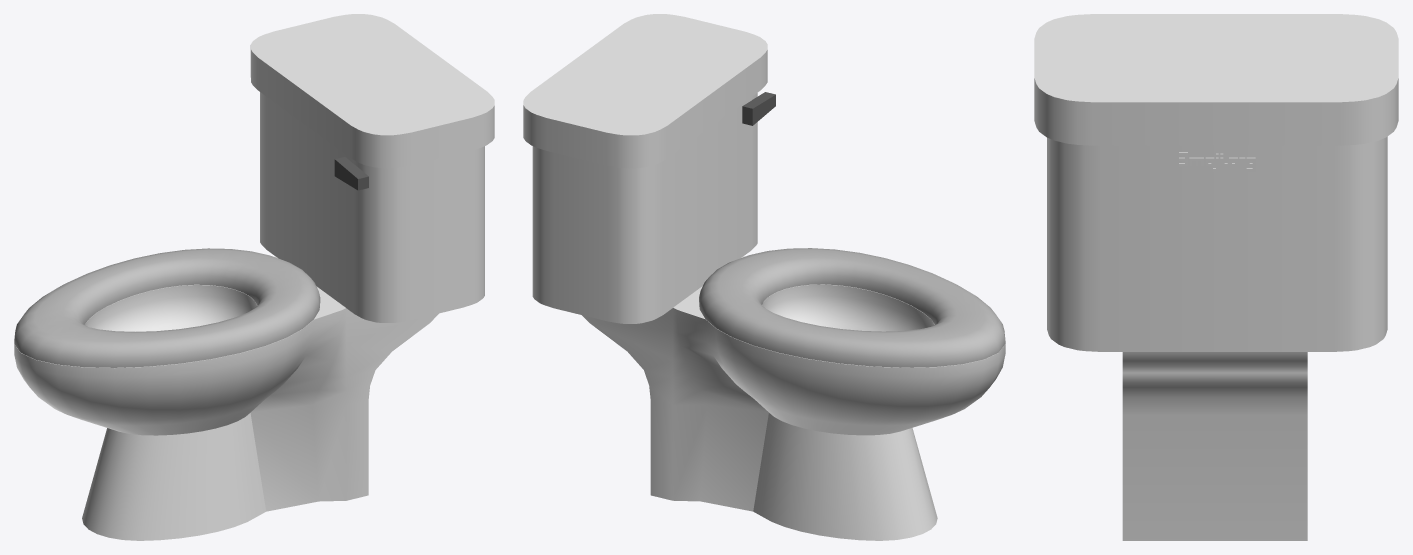
Rendered from toilet.gltf.
3 views of the same model, side by side, from view 1: azimuth 30°, elevation 25°; view 2: azimuth 150°, elevation 25°; view 3: azimuth 270°, elevation 25° (orthographic). The views are drawn at different scales.
Visible parts, largest first — view 1: Circle.2603; view 2: Circle.2603; view 3: Circle.2603.
Part boxes in pixels (bbox=[...]): Circle.2603: bbox=[14, 14, 494, 540]; Circle.2603: bbox=[523, 14, 1005, 540]; Circle.2603: bbox=[1034, 14, 1398, 540].
Size of the model in its own units: 2.21 by 1.93 by 1.25.
1 material, 1 textured.
